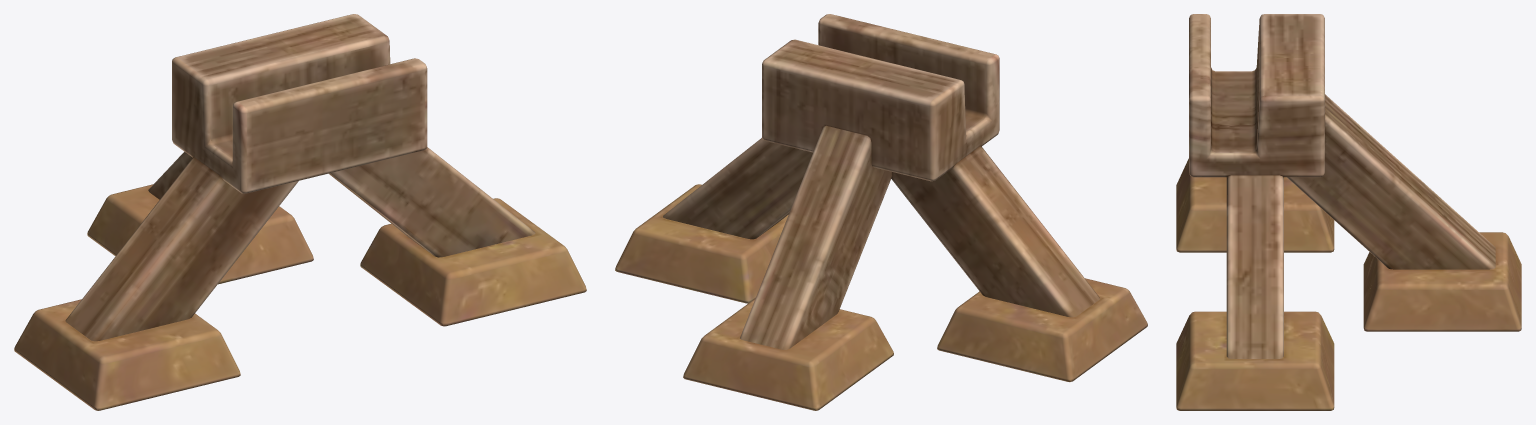
3 views of the same model, side by side, from view 1: azimuth 30°, elevation 25°; view 2: azimuth 150°, elevation 25°; view 3: azimuth 270°, elevation 25° (orthographic). The views are drawn at different scales.
Parts seen in each view (by area): view 1: SM_Circle_of_Mirror_Stand_01_LOD0; view 2: SM_Circle_of_Mirror_Stand_01_LOD0; view 3: SM_Circle_of_Mirror_Stand_01_LOD0.
Part boxes in pixels (x1,y1,x2,y2): SM_Circle_of_Mirror_Stand_01_LOD0: (14,14,586,410); SM_Circle_of_Mirror_Stand_01_LOD0: (615,14,1147,410); SM_Circle_of_Mirror_Stand_01_LOD0: (1176,14,1521,410).
Size of the model in its own units: 0.9278 by 0.4705 by 0.6015.
1 material, 1 textured.
